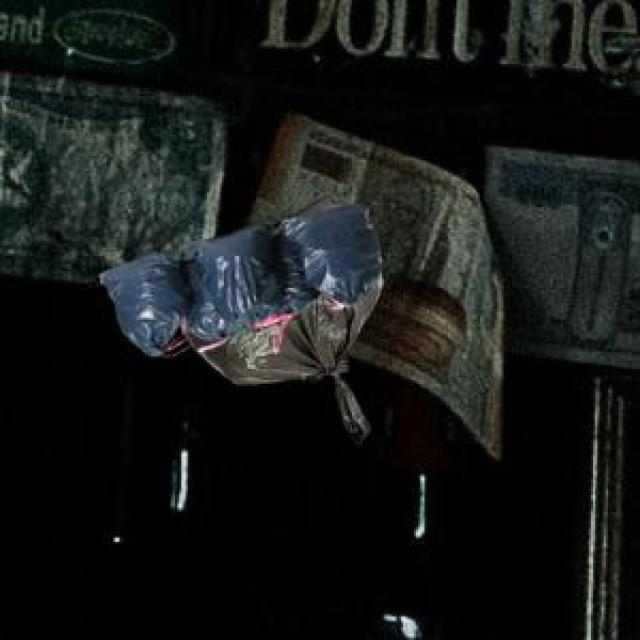garbage_bag: (94, 196, 390, 442)
